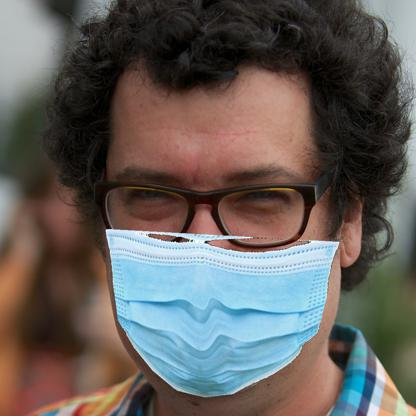mask: (104, 228, 335, 393)
